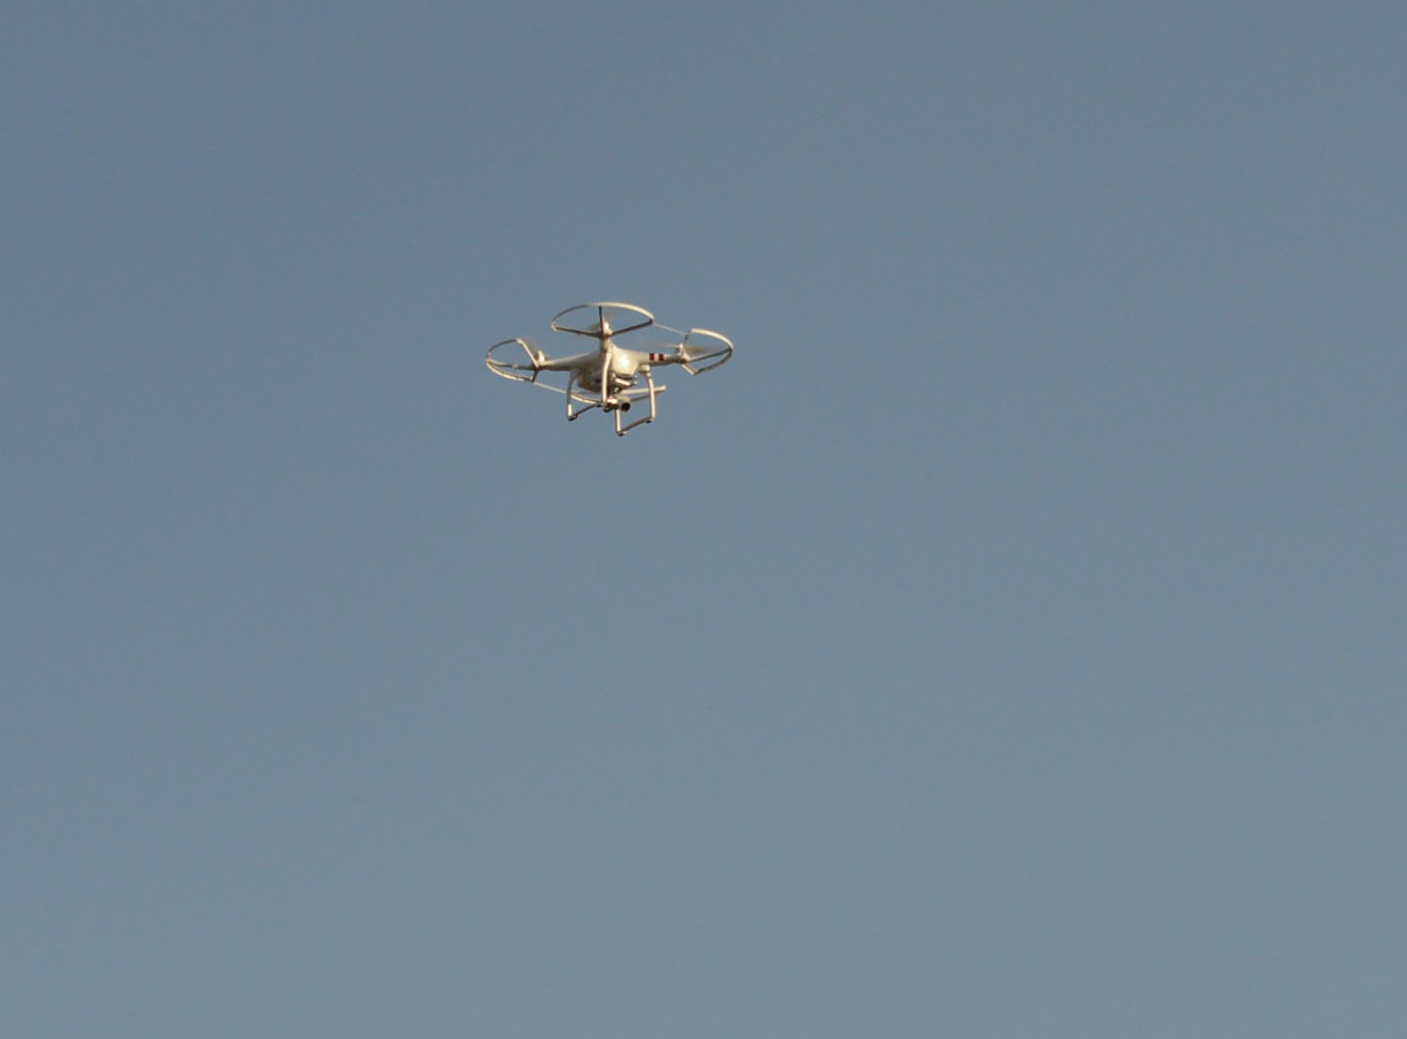DJI: (478, 299, 738, 442)
